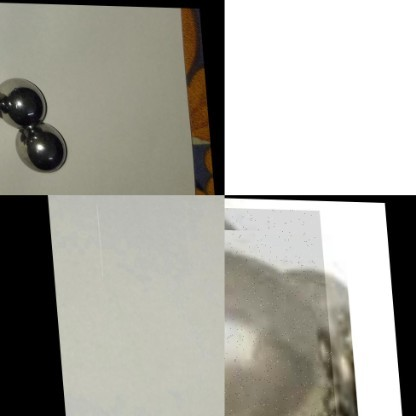ironball: (224, 247, 311, 416), (290, 262, 355, 414), (9, 121, 69, 175), (0, 73, 54, 125)
